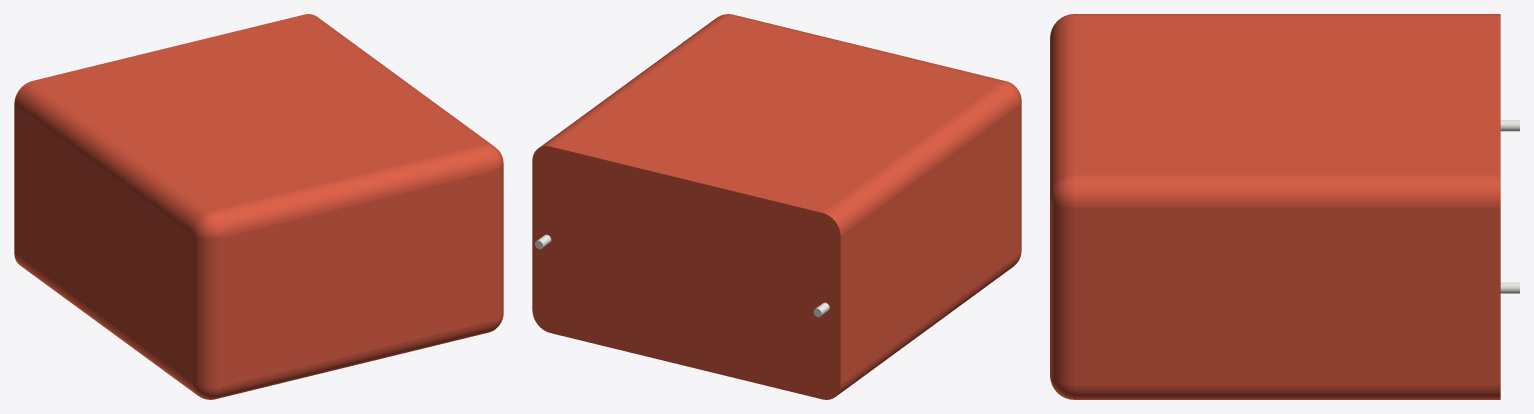
The model's file is C_Rect_L41.5mm_W24.0mm_P37.50mm_MKS4.glb.
3 renders of one model, left to right at view 1: azimuth 30°, elevation 25°; view 2: azimuth 150°, elevation 25°; view 3: azimuth 270°, elevation 25°, orthographic. The views are drawn at different scales.
Parts seen in each view (by area): view 1: Shape_IndexedFaceSet.009, Shape_IndexedFaceSet.008, Shape_IndexedFaceSet, Shape_IndexedFaceSet.016, Shape_IndexedFaceSet.004, Shape_IndexedFaceSet.002, Shape_IndexedFaceSet.015, Shape_IndexedFaceSet.017, Shape_IndexedFaceSet.001, Shape_IndexedFaceSet.011, Shape_IndexedFaceSet.007; view 2: Shape_IndexedFaceSet.003, Shape_IndexedFaceSet.009, Shape_IndexedFaceSet, Shape_IndexedFaceSet.004, Shape_IndexedFaceSet.001, Shape_IndexedFaceSet.011, Shape_IndexedFaceSet.016, Shape_IndexedFaceSet.002; view 3: Shape_IndexedFaceSet.012, Shape_IndexedFaceSet.009, Shape_IndexedFaceSet.011, Shape_IndexedFaceSet.010, Shape_IndexedFaceSet.017, Shape_IndexedFaceSet.016, Shape_IndexedFaceSet.004, Shape_IndexedFaceSet.019.
Part boxes in pixels (<box>): Shape_IndexedFaceSet.009: <box>32,14,482,211</box>; Shape_IndexedFaceSet.008: <box>220,171,493,386</box>; Shape_IndexedFaceSet: <box>14,104,192,383</box>; Shape_IndexedFaceSet.016: <box>211,145,493,237</box>; Shape_IndexedFaceSet.004: <box>14,81,209,233</box>; Shape_IndexedFaceSet.002: <box>192,235,220,387</box>; Shape_IndexedFaceSet.015: <box>217,320,493,398</box>; Shape_IndexedFaceSet.017: <box>493,165,503,320</box>; Shape_IndexedFaceSet.001: <box>14,253,196,394</box>; Shape_IndexedFaceSet.011: <box>305,14,494,146</box>; Shape_IndexedFaceSet.007: <box>192,211,220,238</box>; Shape_IndexedFaceSet.003: <box>532,146,840,399</box>; Shape_IndexedFaceSet.009: <box>550,16,1000,212</box>; Shape_IndexedFaceSet: <box>840,105,1018,384</box>; Shape_IndexedFaceSet.004: <box>823,82,1018,235</box>; Shape_IndexedFaceSet.001: <box>836,255,1018,396</box>; Shape_IndexedFaceSet.011: <box>539,15,727,147</box>; Shape_IndexedFaceSet.016: <box>729,14,1004,82</box>; Shape_IndexedFaceSet.002: <box>1019,102,1021,253</box>; Shape_IndexedFaceSet.012: <box>1074,207,1500,385</box>; Shape_IndexedFaceSet.009: <box>1074,16,1500,174</box>; Shape_IndexedFaceSet.011: <box>1074,175,1500,207</box>; Shape_IndexedFaceSet.010: <box>1074,386,1500,399</box>; Shape_IndexedFaceSet.017: <box>1050,198,1074,385</box>; Shape_IndexedFaceSet.016: <box>1050,16,1074,195</box>; Shape_IndexedFaceSet.004: <box>1074,14,1500,16</box>; Shape_IndexedFaceSet.019: <box>1050,175,1074,207</box>.
Size of the model in its own units: 16.34 by 9.45 by 18.07.
